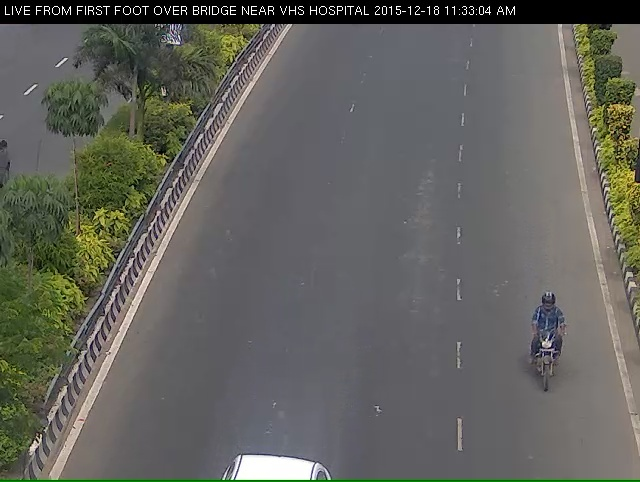Person: (504, 312, 579, 416)
